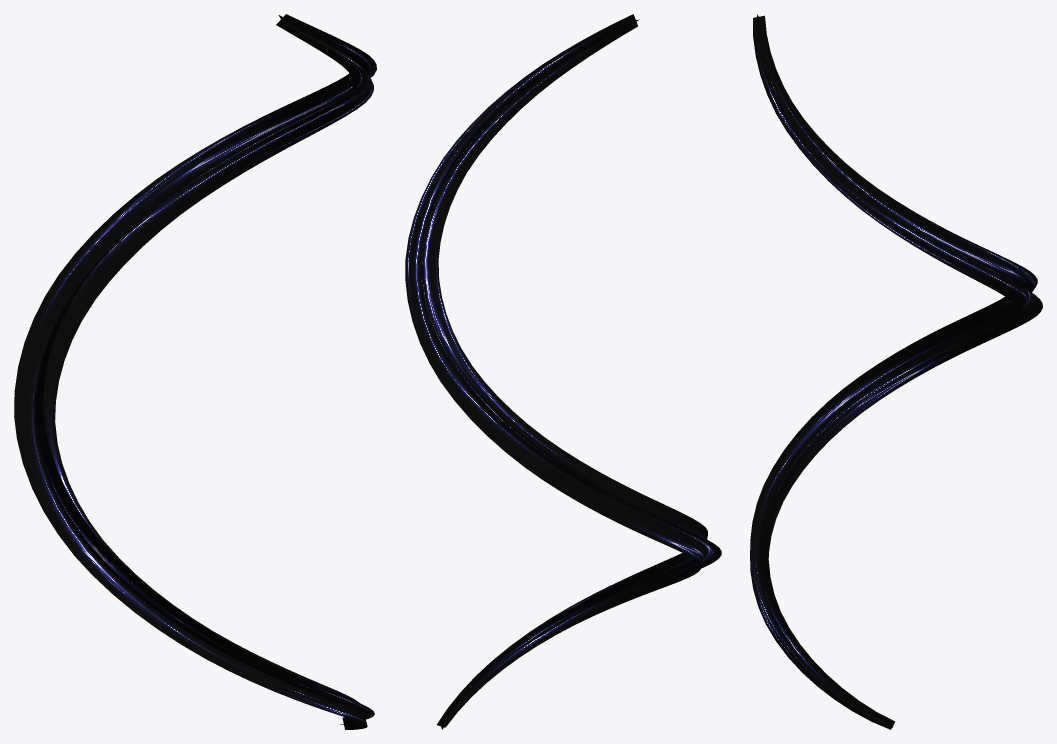
The model's file is 0484_xuanxian_M_01.glb.
3 renders of one model, left to right at view 1: azimuth 30°, elevation 25°; view 2: azimuth 150°, elevation 25°; view 3: azimuth 270°, elevation 25°, orthographic. The views are drawn at different scales.
Size of the model in its own units: 0.9047 by 2.2 by 0.8853.
1 material, 1 textured.
